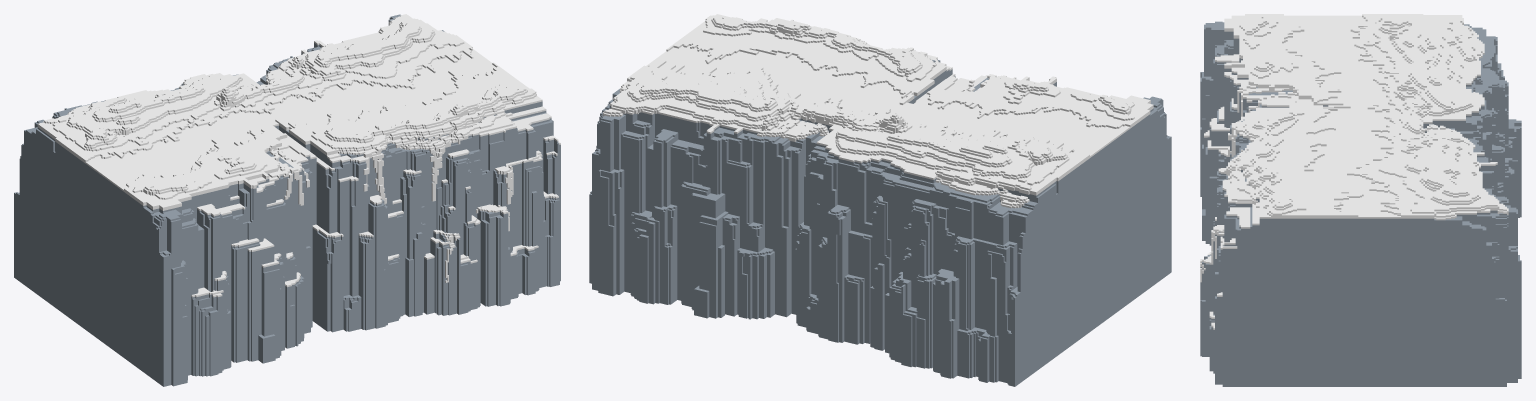
Rendered from factory4.1-15.obj.
3 renders of one model, left to right at view 1: azimuth 30°, elevation 25°; view 2: azimuth 150°, elevation 25°; view 3: azimuth 270°, elevation 25°, orthographic. The views are drawn at different scales.
Size of the model in its own units: 25.6 by 11.1 by 17.3.
Materials: 1 (1 with a texture image).
